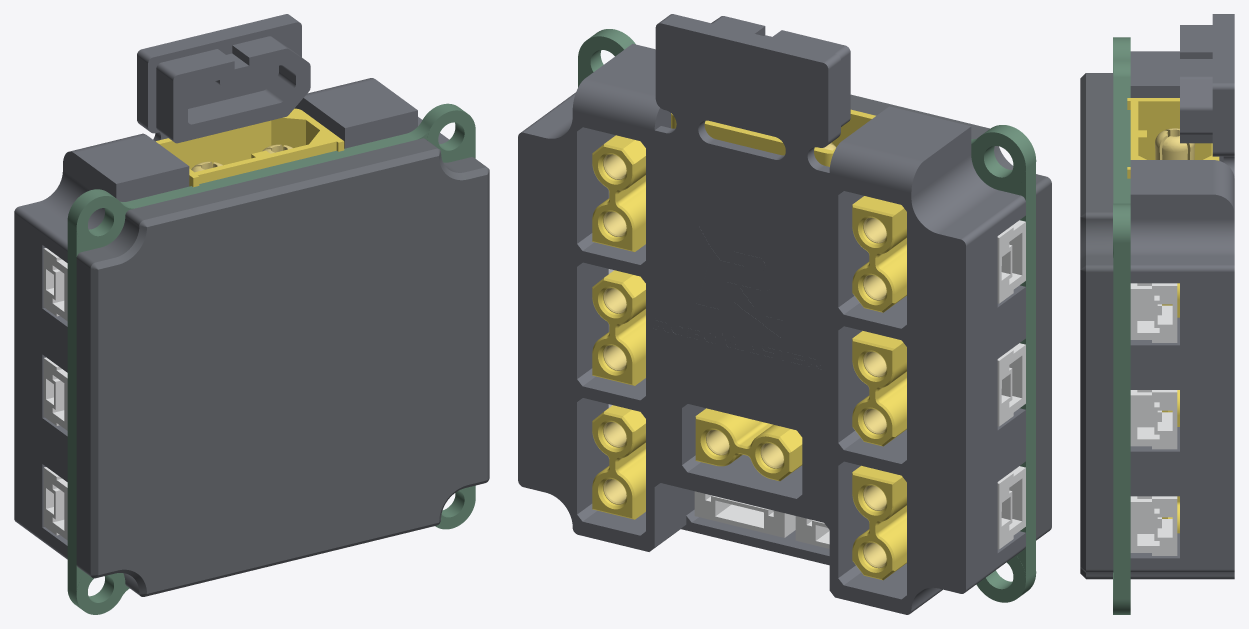
File: web.glb
3 renders of one model, left to right at view 1: azimuth 30°, elevation 25°; view 2: azimuth 150°, elevation 25°; view 3: azimuth 270°, elevation 25°, orthographic. The views are drawn at different scales.
Visible parts, largest first — view 1: SHELL_DOWN, SHELL_UP, CENTER_DISTRIBUTION_BOARD, XT60____-8______-UL-21156-1-SOL, SM02B-GHS-TB001, SM02B-GHS-TB, SM02B-GHS-TB002; view 2: SHELL_UP, CENTER_DISTRIBUTION_BOARD, SHELL_DOWN, XT30UPB-F_SJ, XT30UPB-F_SJ003, XT30UPB-F_SJ001, XT30UPB-F_SJ004, XT30UPB-F_SJ006, XT30UPB-F_SJ005, XT30UPB-F_SJ002, BM04B-GHS-TBT, XT60____-8______-UL-21156-1-SOL (+4 smaller); view 3: SHELL_UP, SHELL_DOWN, CENTER_DISTRIBUTION_BOARD, XT60____-8______-UL-21156-1-SOL, SM02B-GHS-TB005, SM02B-GHS-TB003, SM02B-GHS-TB004, XT60____-8____-21157-1-SOLID1.
Boxes of the visible parts, box(x1,y1,x2,y2) form: SHELL_DOWN: box(76, 138, 489, 596); SHELL_UP: box(14, 14, 449, 559); CENTER_DISTRIBUTION_BOARD: box(67, 103, 475, 614); XT60____-8______-UL-21156-1-SOL: box(156, 108, 344, 187); SM02B-GHS-TB001: box(43, 357, 67, 430); SM02B-GHS-TB: box(43, 248, 67, 321); SM02B-GHS-TB002: box(43, 467, 67, 540); SHELL_UP: box(518, 14, 1025, 614); CENTER_DISTRIBUTION_BOARD: box(578, 29, 1036, 602); SHELL_DOWN: box(850, 94, 1051, 540); XT30UPB-F_SJ: box(852, 196, 906, 312); XT30UPB-F_SJ003: box(592, 135, 645, 251); XT30UPB-F_SJ001: box(852, 331, 906, 446); XT30UPB-F_SJ004: box(592, 270, 645, 385); XT30UPB-F_SJ006: box(695, 408, 802, 481); XT30UPB-F_SJ005: box(592, 405, 645, 519); XT30UPB-F_SJ002: box(852, 465, 906, 580); BM04B-GHS-TBT: box(694, 491, 795, 537); XT60____-8______-UL-21156-1-SOL: box(671, 109, 875, 166); SHELL_UP: box(1130, 14, 1234, 579); SHELL_DOWN: box(1080, 73, 1113, 579); CENTER_DISTRIBUTION_BOARD: box(1113, 37, 1130, 614); XT60____-8______-UL-21156-1-SOL: box(1127, 98, 1219, 178); SM02B-GHS-TB005: box(1130, 283, 1177, 342); SM02B-GHS-TB003: box(1130, 496, 1177, 555); SM02B-GHS-TB004: box(1130, 390, 1177, 449); XT60____-8____-21157-1-SOLID1: box(1155, 128, 1194, 159).
Bounding box in the file's own units: 0.041 × 0.0485 × 0.0141.
